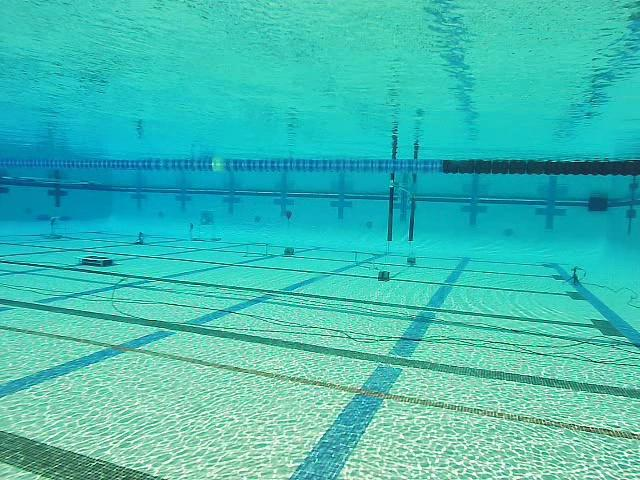dropper: (72, 253, 114, 267)
gate_leg_l: (386, 171, 394, 241)
gate_leg_r: (407, 192, 416, 241)
table: (32, 214, 72, 238)
torpedo: (197, 208, 216, 226)
